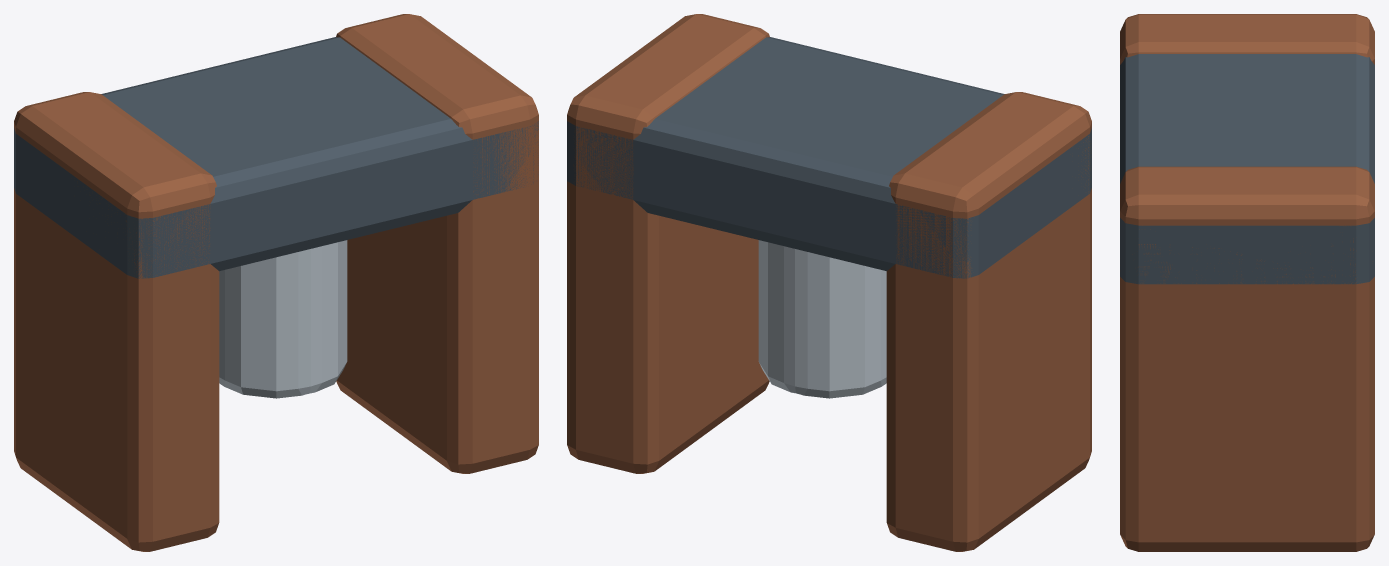
The model's file is Foundry-Press.glb.
The picture shows the model from 3 angles, left to right: view 1: azimuth 30°, elevation 25°; view 2: azimuth 150°, elevation 25°; view 3: azimuth 270°, elevation 25°; orthographic projection. The views are drawn at different scales.
Visible parts, largest first — view 1: Press_Left.001, Machine_Press_Frame.001, Press_Right.001, Press_Piston.001; view 2: Press_Left.001, Machine_Press_Frame.001, Press_Right.001, Press_Piston.001; view 3: Press_Right.001, Machine_Press_Frame.001, Press_Left.001.
Part boxes in pixels (x1,y1,x2,y2): Press_Left.001: (14, 92, 219, 551); Machine_Press_Frame.001: (14, 37, 538, 278); Press_Right.001: (336, 14, 538, 473); Press_Piston.001: (219, 240, 347, 398); Press_Left.001: (886, 92, 1091, 551); Machine_Press_Frame.001: (567, 37, 1091, 278); Press_Right.001: (567, 14, 769, 473); Press_Piston.001: (758, 240, 886, 398); Press_Right.001: (1120, 166, 1374, 551); Machine_Press_Frame.001: (1120, 54, 1374, 284); Press_Left.001: (1120, 14, 1374, 64).
Size of the model in its own units: 2 by 1.7 by 1.1.
